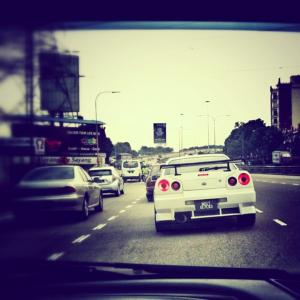Vehicle-registration-plate: (194, 200, 216, 211)
